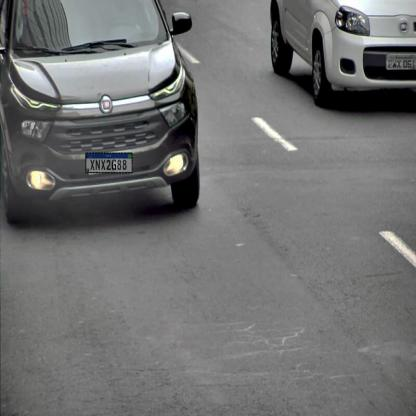PlacaM: (85, 152, 133, 174)
